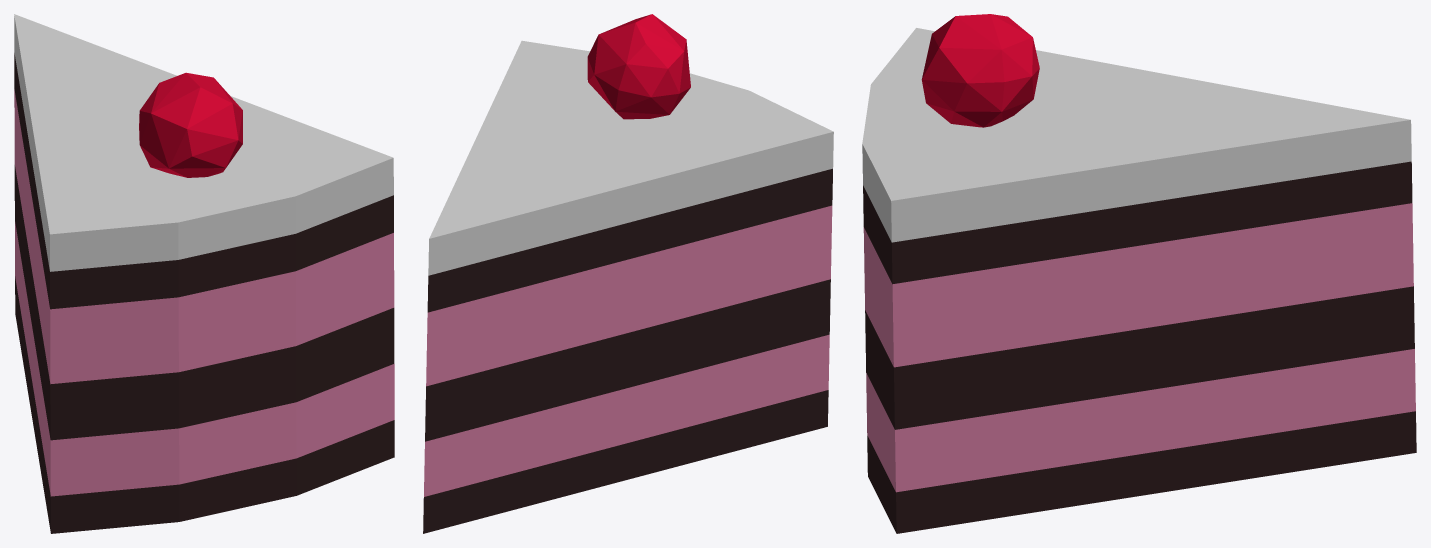
Rendered from Cake.fbx.
3 renders of one model, left to right at view 1: azimuth 30°, elevation 25°; view 2: azimuth 150°, elevation 25°; view 3: azimuth 270°, elevation 25°, orthographic. The views are drawn at different scales.
Parts seen in each view (by area): view 1: Icosphere; view 2: Icosphere; view 3: Icosphere.
Part boxes in pixels (left/top/right/bottom): Icosphere: left=14, top=14, right=394, bottom=533; Icosphere: left=423, top=14, right=833, bottom=533; Icosphere: left=862, top=14, right=1416, bottom=533.
Bounding box in the file's own units: 77.22 × 87.37 × 101.
